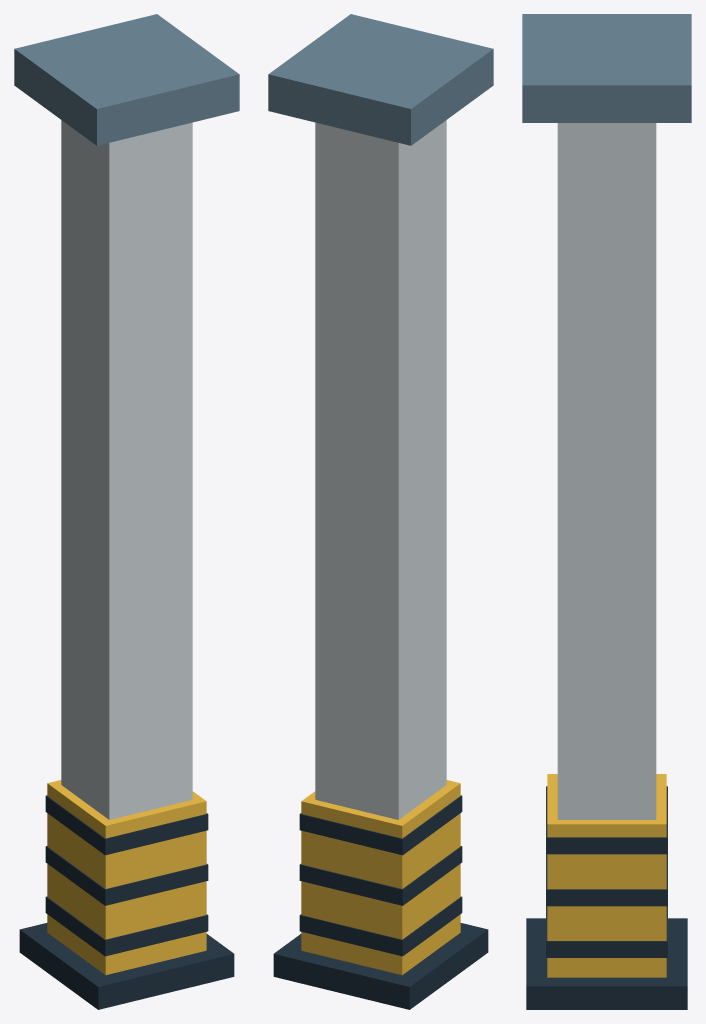
Rendered from column.0739103efe3c.glb.
3 views of the same model, side by side, from view 1: azimuth 30°, elevation 25°; view 2: azimuth 150°, elevation 25°; view 3: azimuth 270°, elevation 25° (orthographic). The views are drawn at different scales.
Visible parts, largest first — view 1: column_0002, capital_0007, impact_guard_0003, baseplate_0001, guard_band_0004, guard_band_0005, guard_band_0006; view 2: column_0002, capital_0007, impact_guard_0003, baseplate_0001, guard_band_0004, guard_band_0005, guard_band_0006; view 3: column_0002, capital_0007, impact_guard_0003, baseplate_0001, guard_band_0006, guard_band_0005, guard_band_0004.
Part boxes in pixels (box(x1,y1,x2,y2)): column_0002: box(61, 120, 192, 819); capital_0007: box(14, 14, 239, 145); impact_guard_0003: box(47, 780, 206, 975); baseplate_0001: box(19, 923, 234, 1009); guard_band_0004: box(45, 896, 208, 956); guard_band_0005: box(45, 846, 208, 905); guard_band_0006: box(45, 795, 208, 855); column_0002: box(315, 120, 446, 819); capital_0007: box(268, 14, 493, 145); impact_guard_0003: box(301, 780, 460, 975); baseplate_0001: box(273, 923, 488, 1009); guard_band_0004: box(299, 896, 462, 956); guard_band_0005: box(299, 846, 462, 905); guard_band_0006: box(299, 795, 462, 855); column_0002: box(557, 123, 656, 819); capital_0007: box(522, 14, 691, 122); impact_guard_0003: box(547, 774, 666, 977); baseplate_0001: box(526, 918, 687, 1009); guard_band_0006: box(546, 786, 667, 854); guard_band_0005: box(546, 854, 667, 906); guard_band_0004: box(546, 906, 667, 957).
Bounding box in the file's own units: 0.65 × 3.93 × 0.65.
